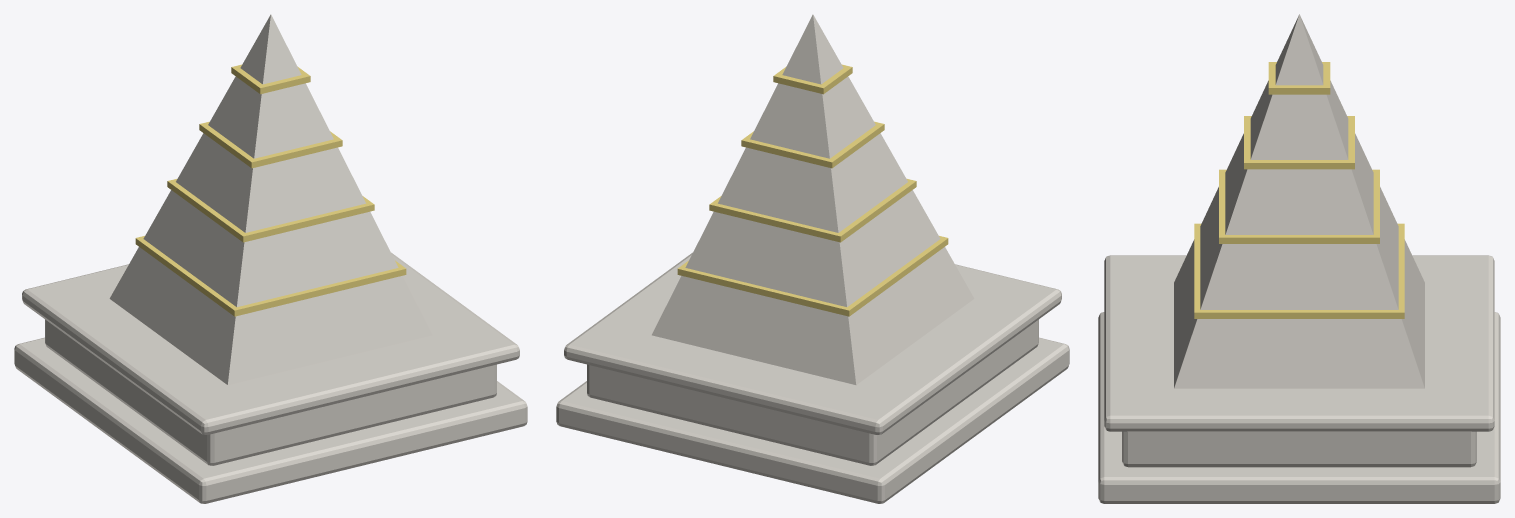
Rendered from Louvre_Torre.fbx.
The picture shows the model from 3 angles, left to right: view 1: azimuth 30°, elevation 25°; view 2: azimuth 150°, elevation 25°; view 3: azimuth 270°, elevation 25°; orthographic projection. The views are drawn at different scales.
Visible parts, largest first — view 1: Louvre_Torre; view 2: Louvre_Torre; view 3: Louvre_Torre.
Boxes of the visible parts, box(x1,y1,x2,y2) form: Louvre_Torre: box(14, 14, 527, 503); Louvre_Torre: box(556, 14, 1069, 503); Louvre_Torre: box(1098, 14, 1500, 503).
Bounding box in the file's own units: 0.68 × 0.76 × 0.68.
